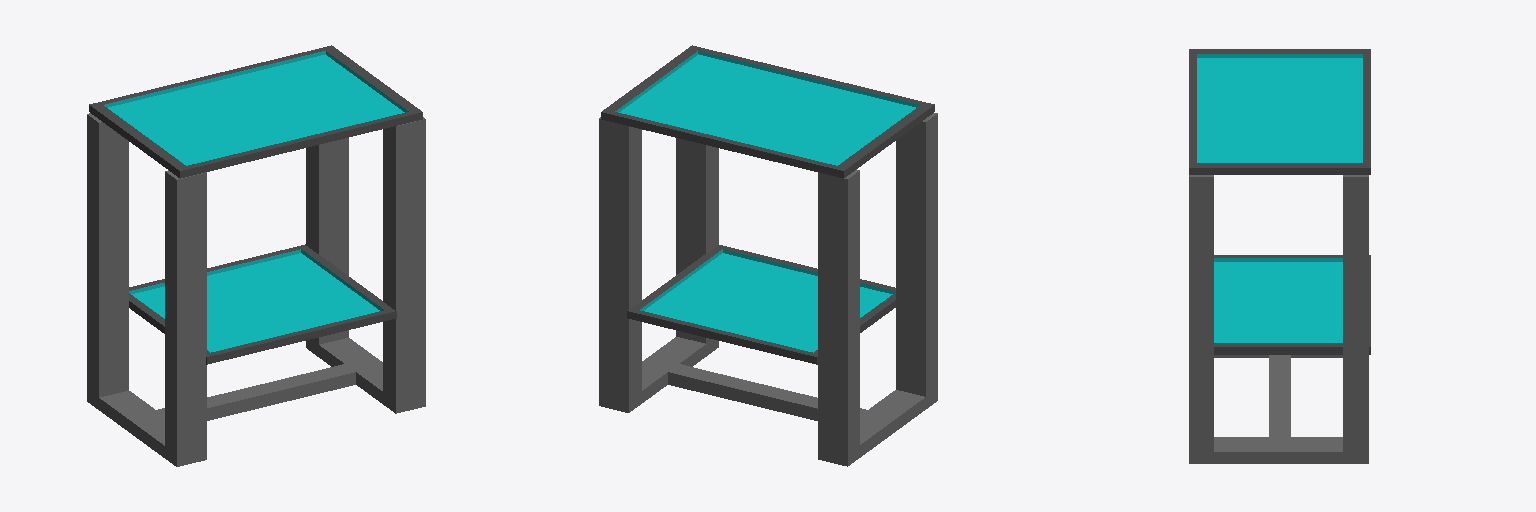
The model's file is portaOggetti.obj.
3 renders of one model, left to right at view 1: azimuth 30°, elevation 25°; view 2: azimuth 150°, elevation 25°; view 3: azimuth 270°, elevation 25°, orthographic.
Parts seen in each view (by area): view 1: base_Plane, piano3_Plane.007, piano_1_Plane.001; view 2: base_Plane, piano3_Plane.007, piano_1_Plane.001; view 3: piano3_Plane.007, base_Plane, piano_1_Plane.001.
Boxes of the visible parts, <box> form: base_Plane: <box>87,113,425,466</box>; piano3_Plane.007: <box>89,45,422,178</box>; piano_1_Plane.001: <box>129,244,396,364</box>; base_Plane: <box>599,113,937,466</box>; piano3_Plane.007: <box>601,45,934,178</box>; piano_1_Plane.001: <box>627,245,895,364</box>; piano3_Plane.007: <box>1189,49,1370,174</box>; base_Plane: <box>1189,175,1368,463</box>; piano_1_Plane.001: <box>1214,255,1370,354</box>.
Size of the model in its own units: 2 by 2.26 by 1.26.